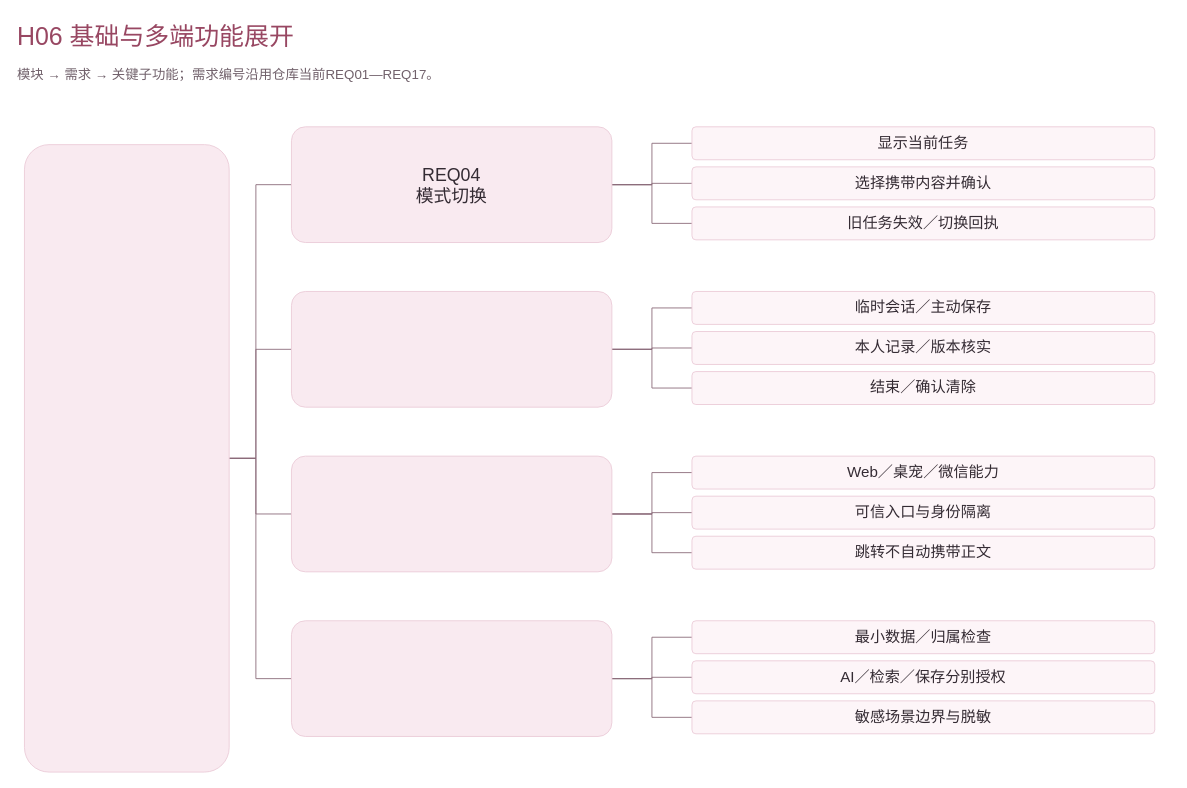
Image size: 1187x788. Some labels were removed from this diagram. Each missing label, with the centre of its shape:
REQ05 会话控制: (x=451, y=349)
REQ06 多入口及隔离: (x=451, y=513)
REQ07 安全与隐私: (x=451, y=678)
基础与多端: (x=126, y=458)
